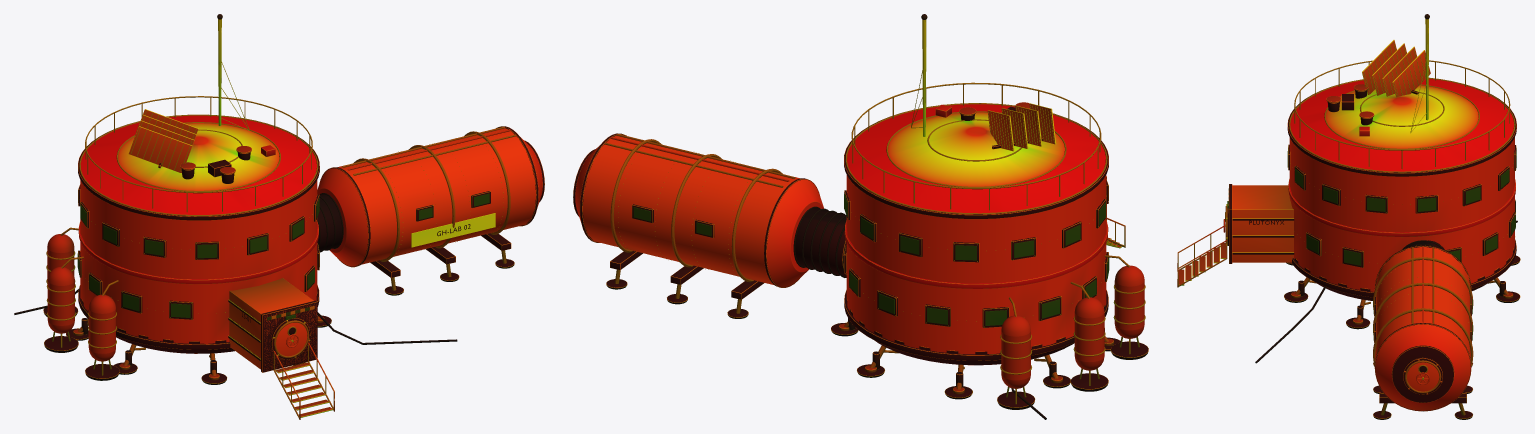
File: habitat.glb
The picture shows the model from 3 angles, left to right: view 1: azimuth 30°, elevation 25°; view 2: azimuth 150°, elevation 25°; view 3: azimuth 270°, elevation 25°; orthographic projection. The views are drawn at different scales.
Parts seen in each view (by area): view 1: habitat; view 2: habitat; view 3: habitat.
Boxes of the visible parts, bbox=[...] form: habitat: bbox=[14, 14, 544, 419]; habitat: bbox=[573, 14, 1148, 419]; habitat: bbox=[1177, 14, 1520, 419].
Size of the model in its own units: 25.34 by 14.88 by 16.45.
